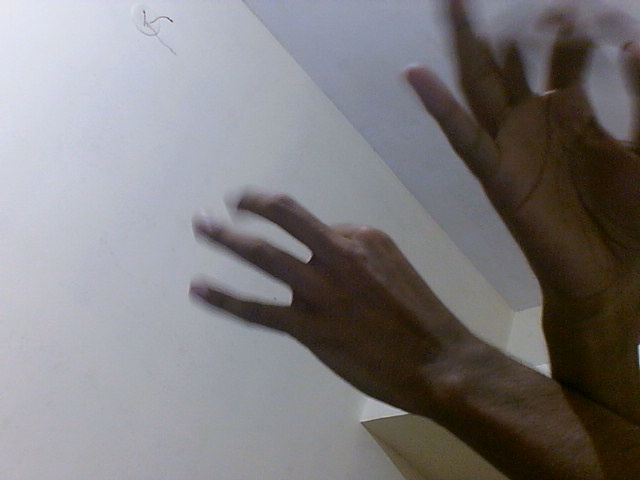hand: (402, 2, 640, 326), (185, 181, 489, 429)
